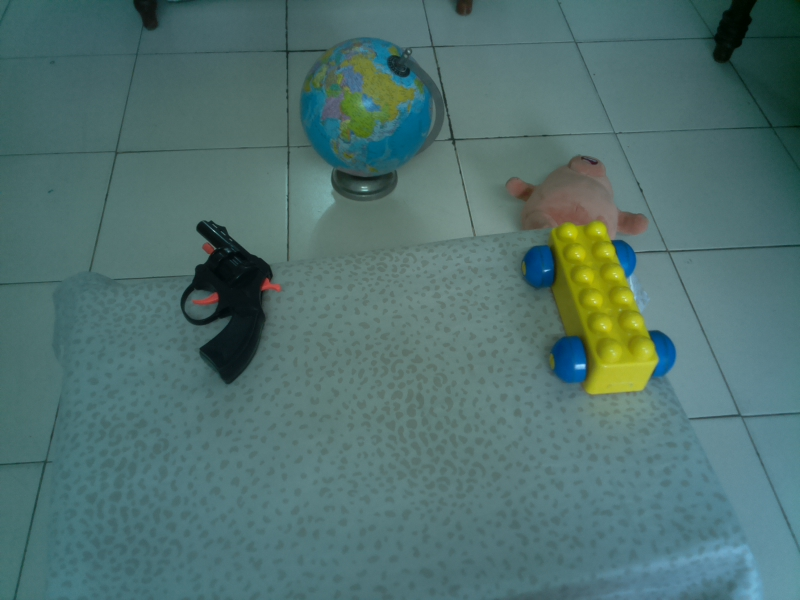Gun: (176, 216, 288, 386)
toy_Car: (516, 217, 682, 398)
